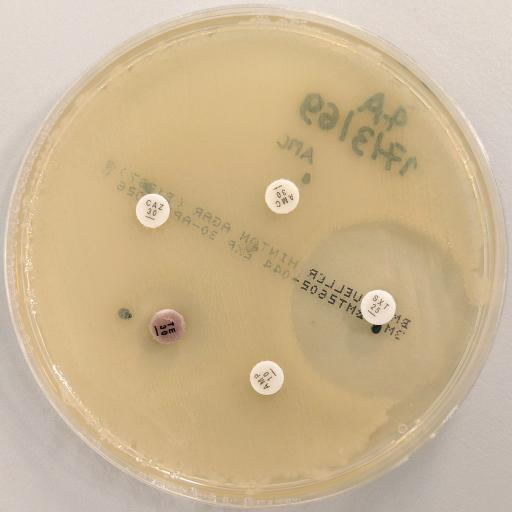disc: (262, 176, 302, 216), (148, 307, 187, 346), (134, 192, 172, 230), (248, 358, 286, 396), (359, 288, 397, 326)
